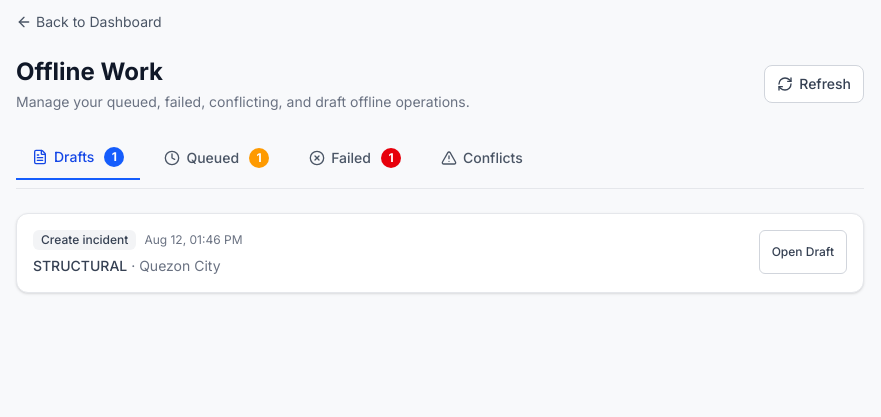
OfflineWorkPage › shows a draft create op, queued update, and failed op
The width and height of the screenshot is (881, 417).
Expected: the link "Open Draft" is shown, [759,230,847,274]
Note: Switch to Queued tab
Click the tab "Queued 1" at (217, 158), box [148,136,285,180]
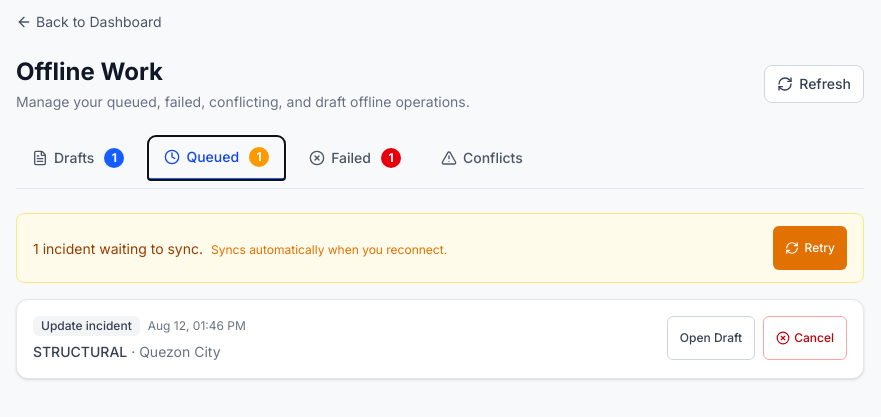
Result: the text "Update incident" is shown at [33,316,140,336]
Note: Switch to Failed tab
Click the tab "Failed 1" at (355, 158), box [293,136,417,180]
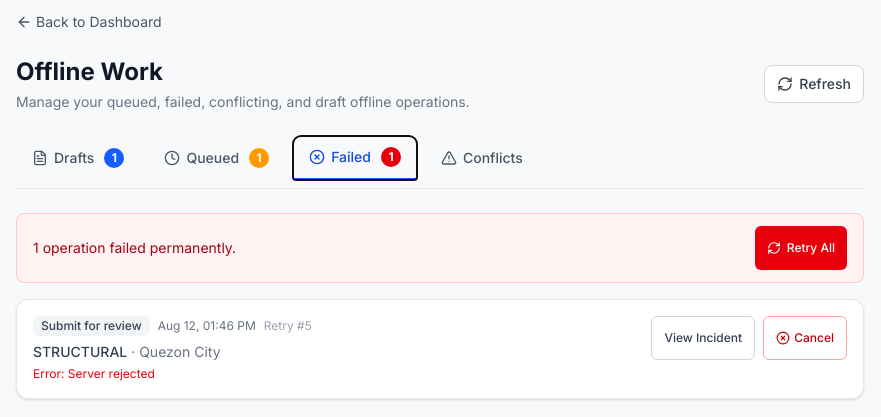
Result: the text "Submit for review" is shown at [33,316,150,336]
Result: the text "Error: Server rejected" is shown at [33,366,155,381]
Result: the text "Retry #5" is shown at [264,318,312,334]
